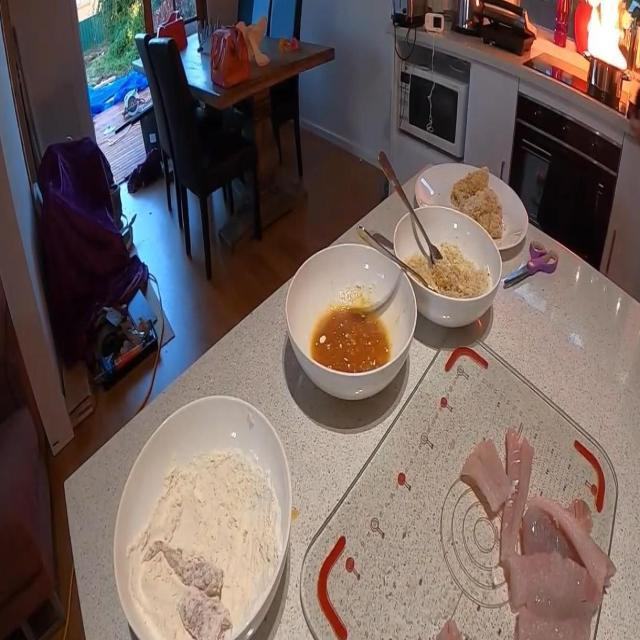smoke: (578, 0, 630, 73)
